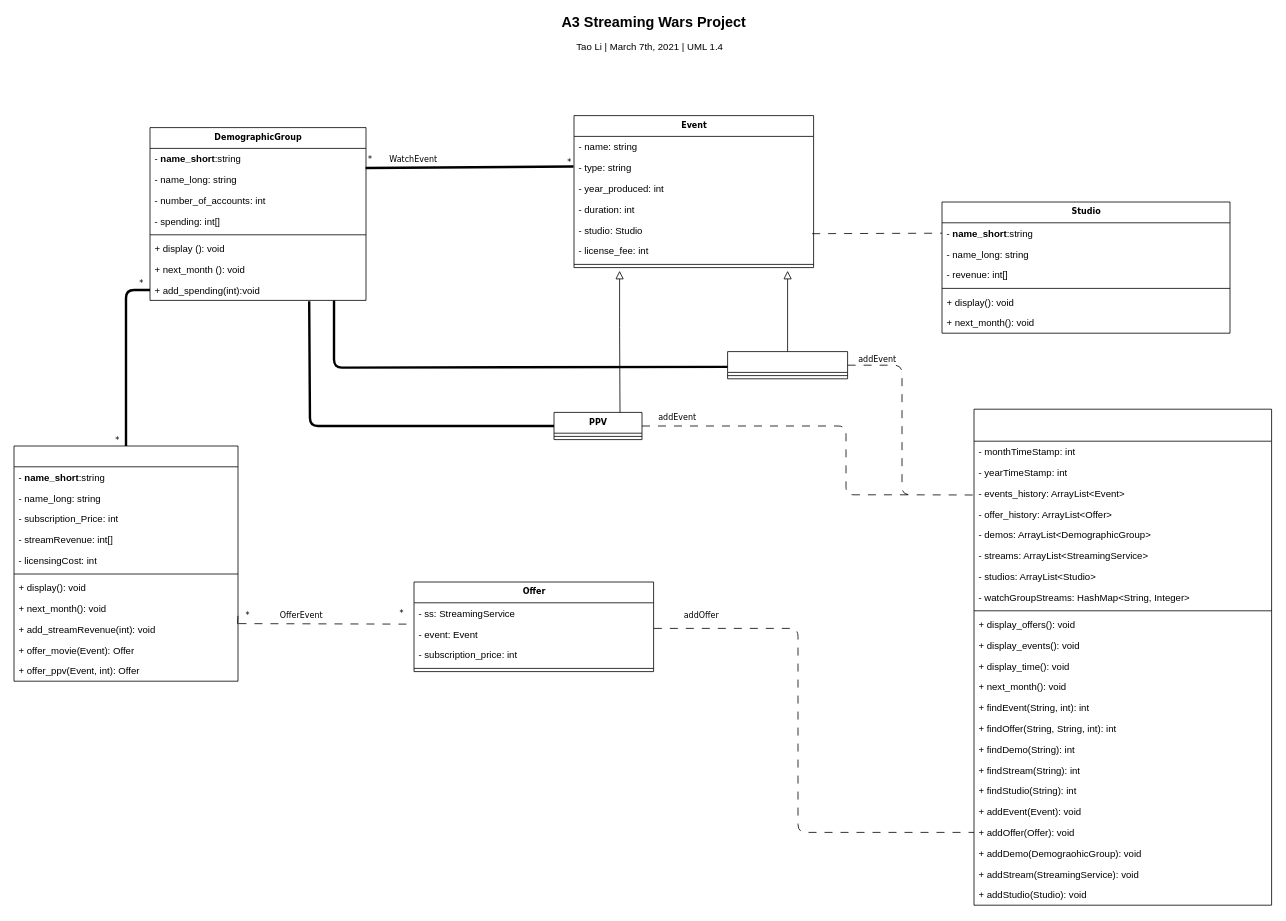
Some shapes in this 1286 by 921 pixel diagram are drawn without their labels. Each missing label, with the box of its shape:
<<Utility>> Platform: (973, 408, 1272, 905)
Movie: (727, 351, 848, 379)
StreamingService: (13, 445, 238, 681)
